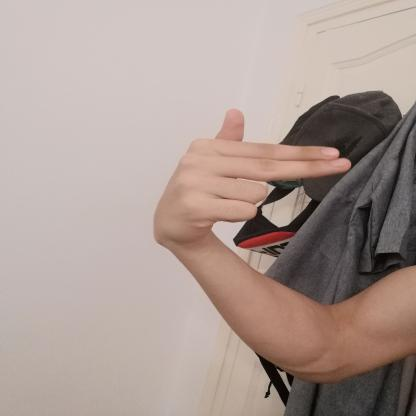GHAYN: (143, 100, 362, 258)
